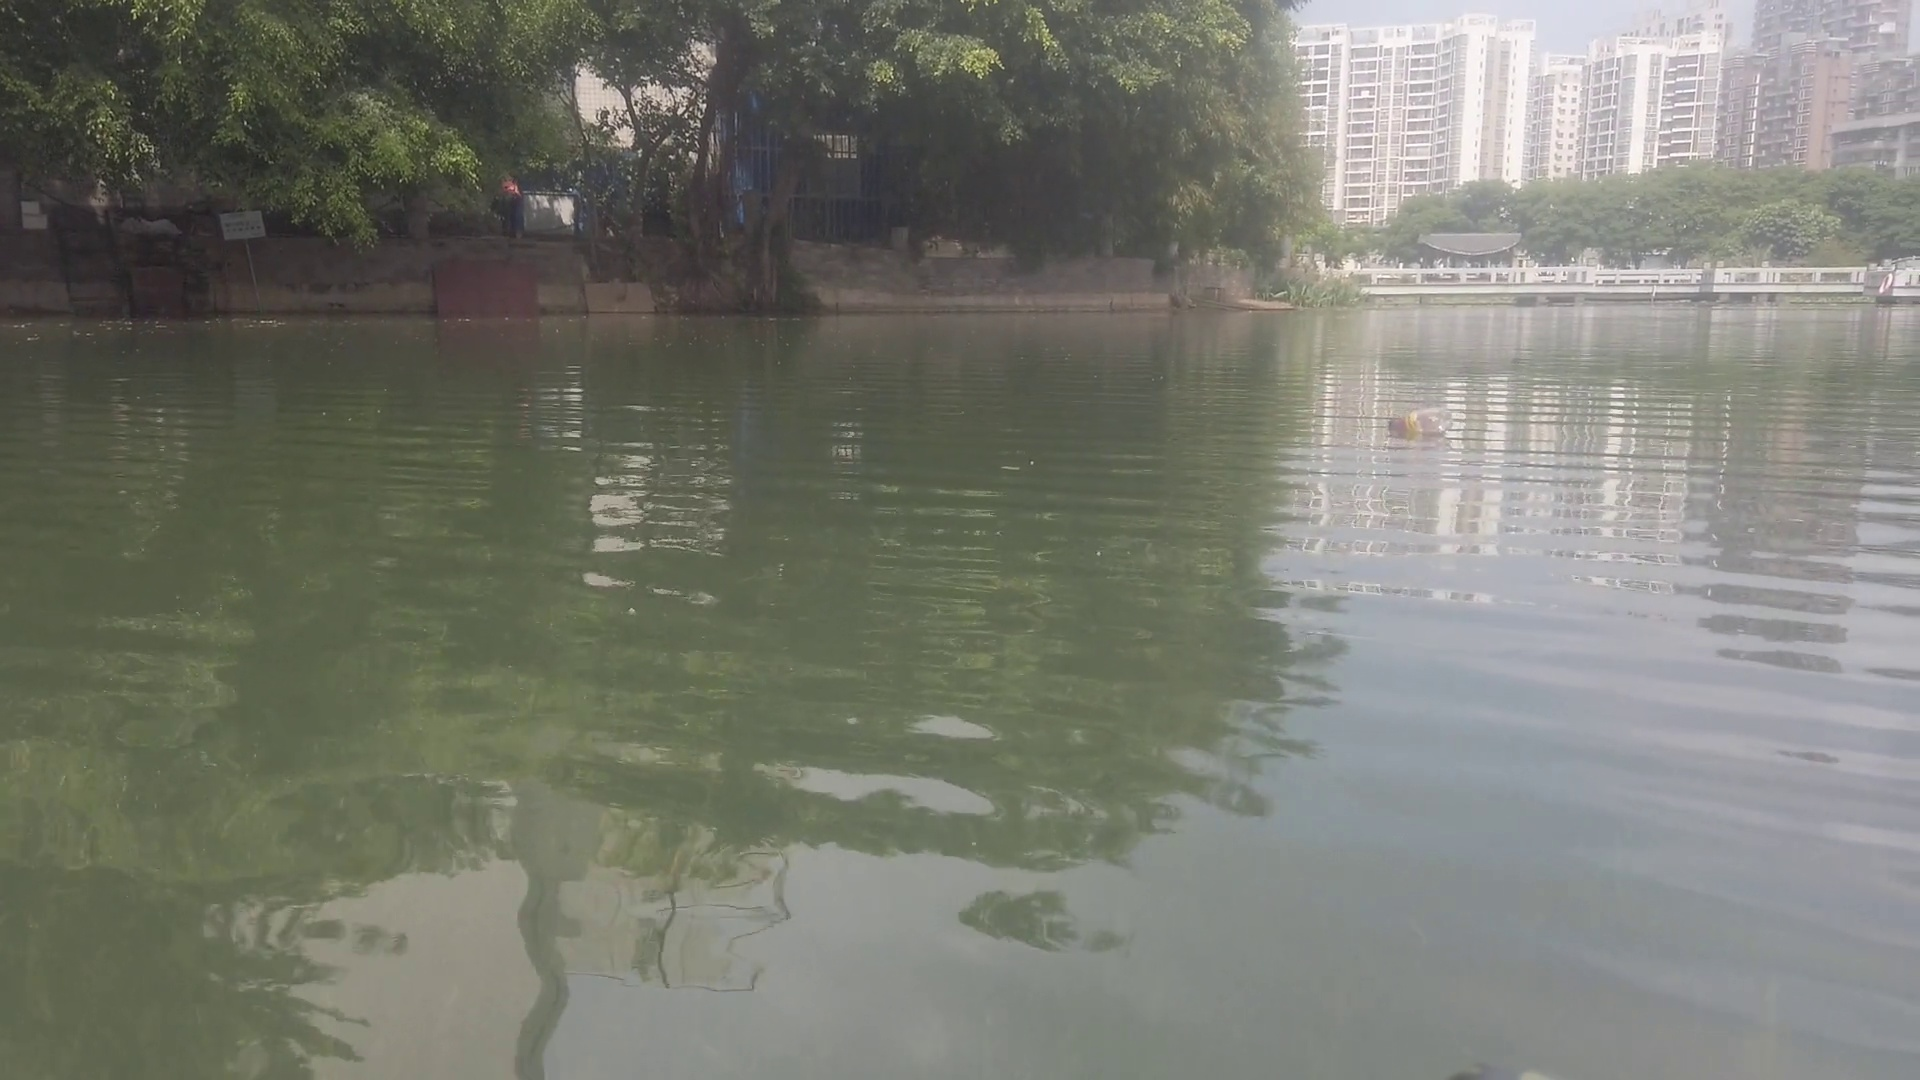bottle: (1390, 407, 1449, 434)
